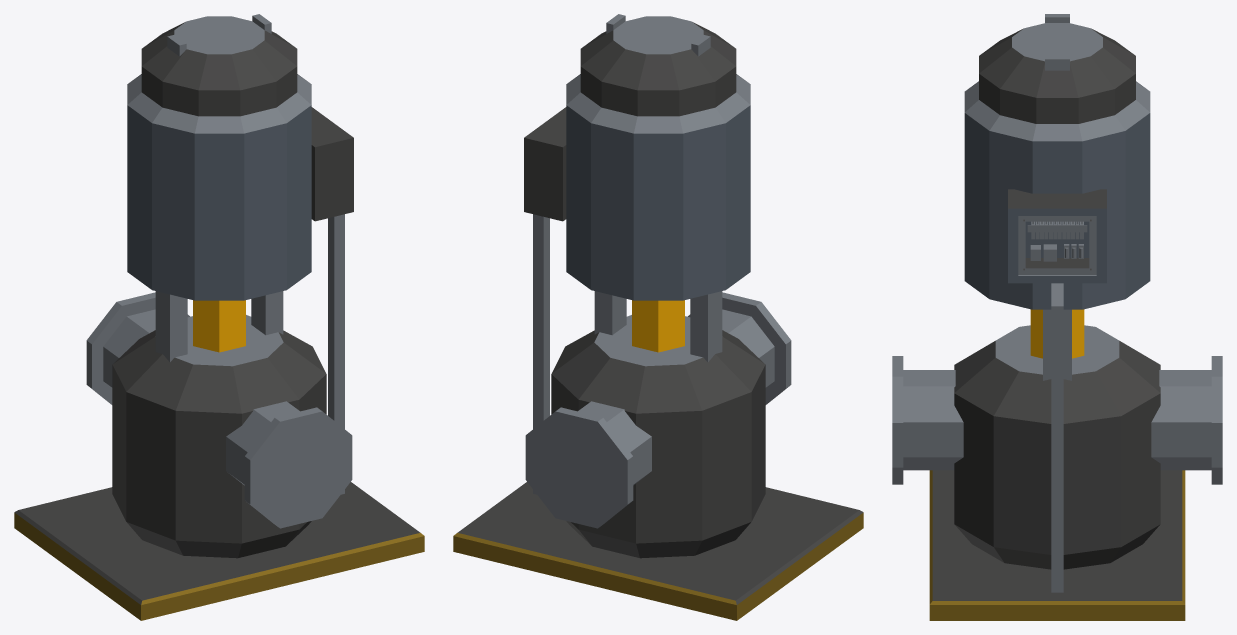
Rendered from coolant_pump_svc.glb.
3 renders of one model, left to right at view 1: azimuth 30°, elevation 25°; view 2: azimuth 150°, elevation 25°; view 3: azimuth 270°, elevation 25°, orthographic.
Parts seen in each view (by area): view 1: coolant_pump_svc; view 2: coolant_pump_svc; view 3: coolant_pump_svc.
Part boxes in pixels (bbox=[...]): coolant_pump_svc: bbox=[14, 14, 424, 620]; coolant_pump_svc: bbox=[453, 14, 863, 620]; coolant_pump_svc: bbox=[892, 14, 1222, 620].
Size of the model in its own units: 1.6 by 2.75 by 1.6.
